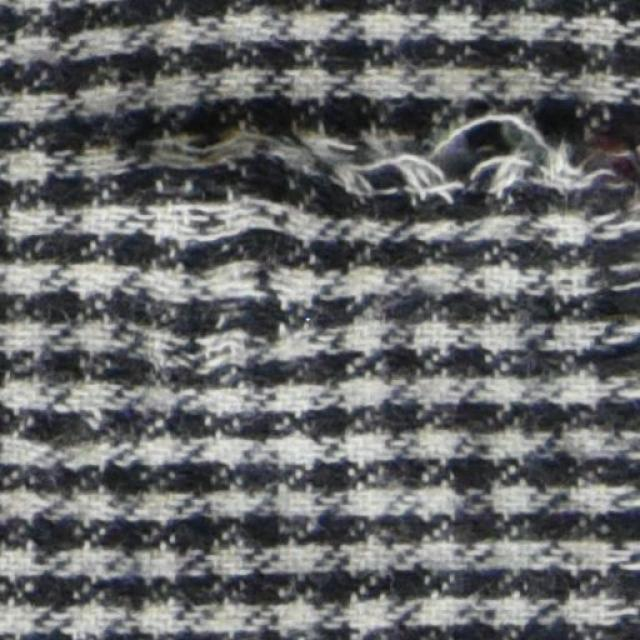Snag: (132, 89, 639, 510)
